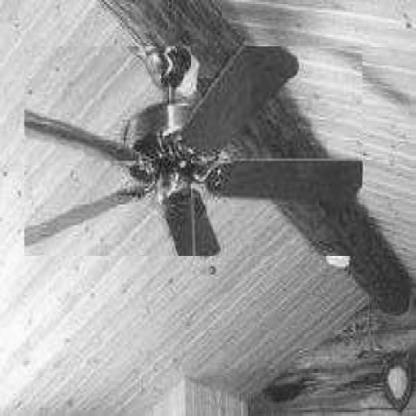ceiling-fan: (25, 46, 364, 257)
